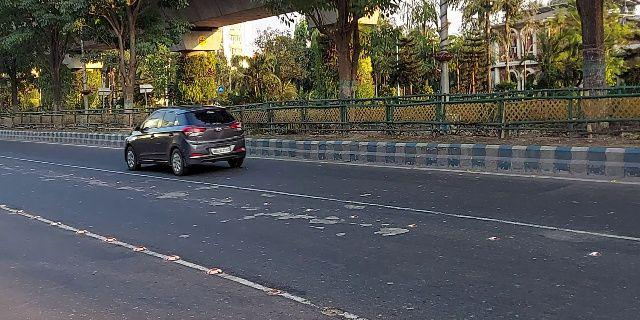Car: (117, 102, 249, 181)
